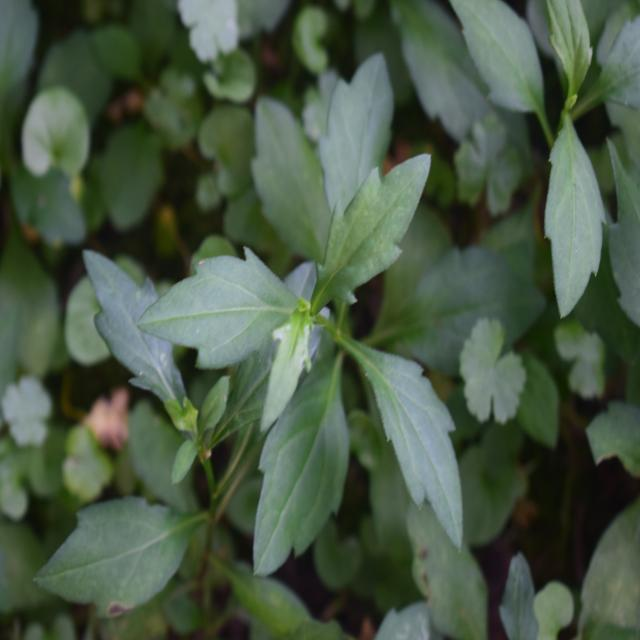Indian aster: (153, 123, 455, 573)
